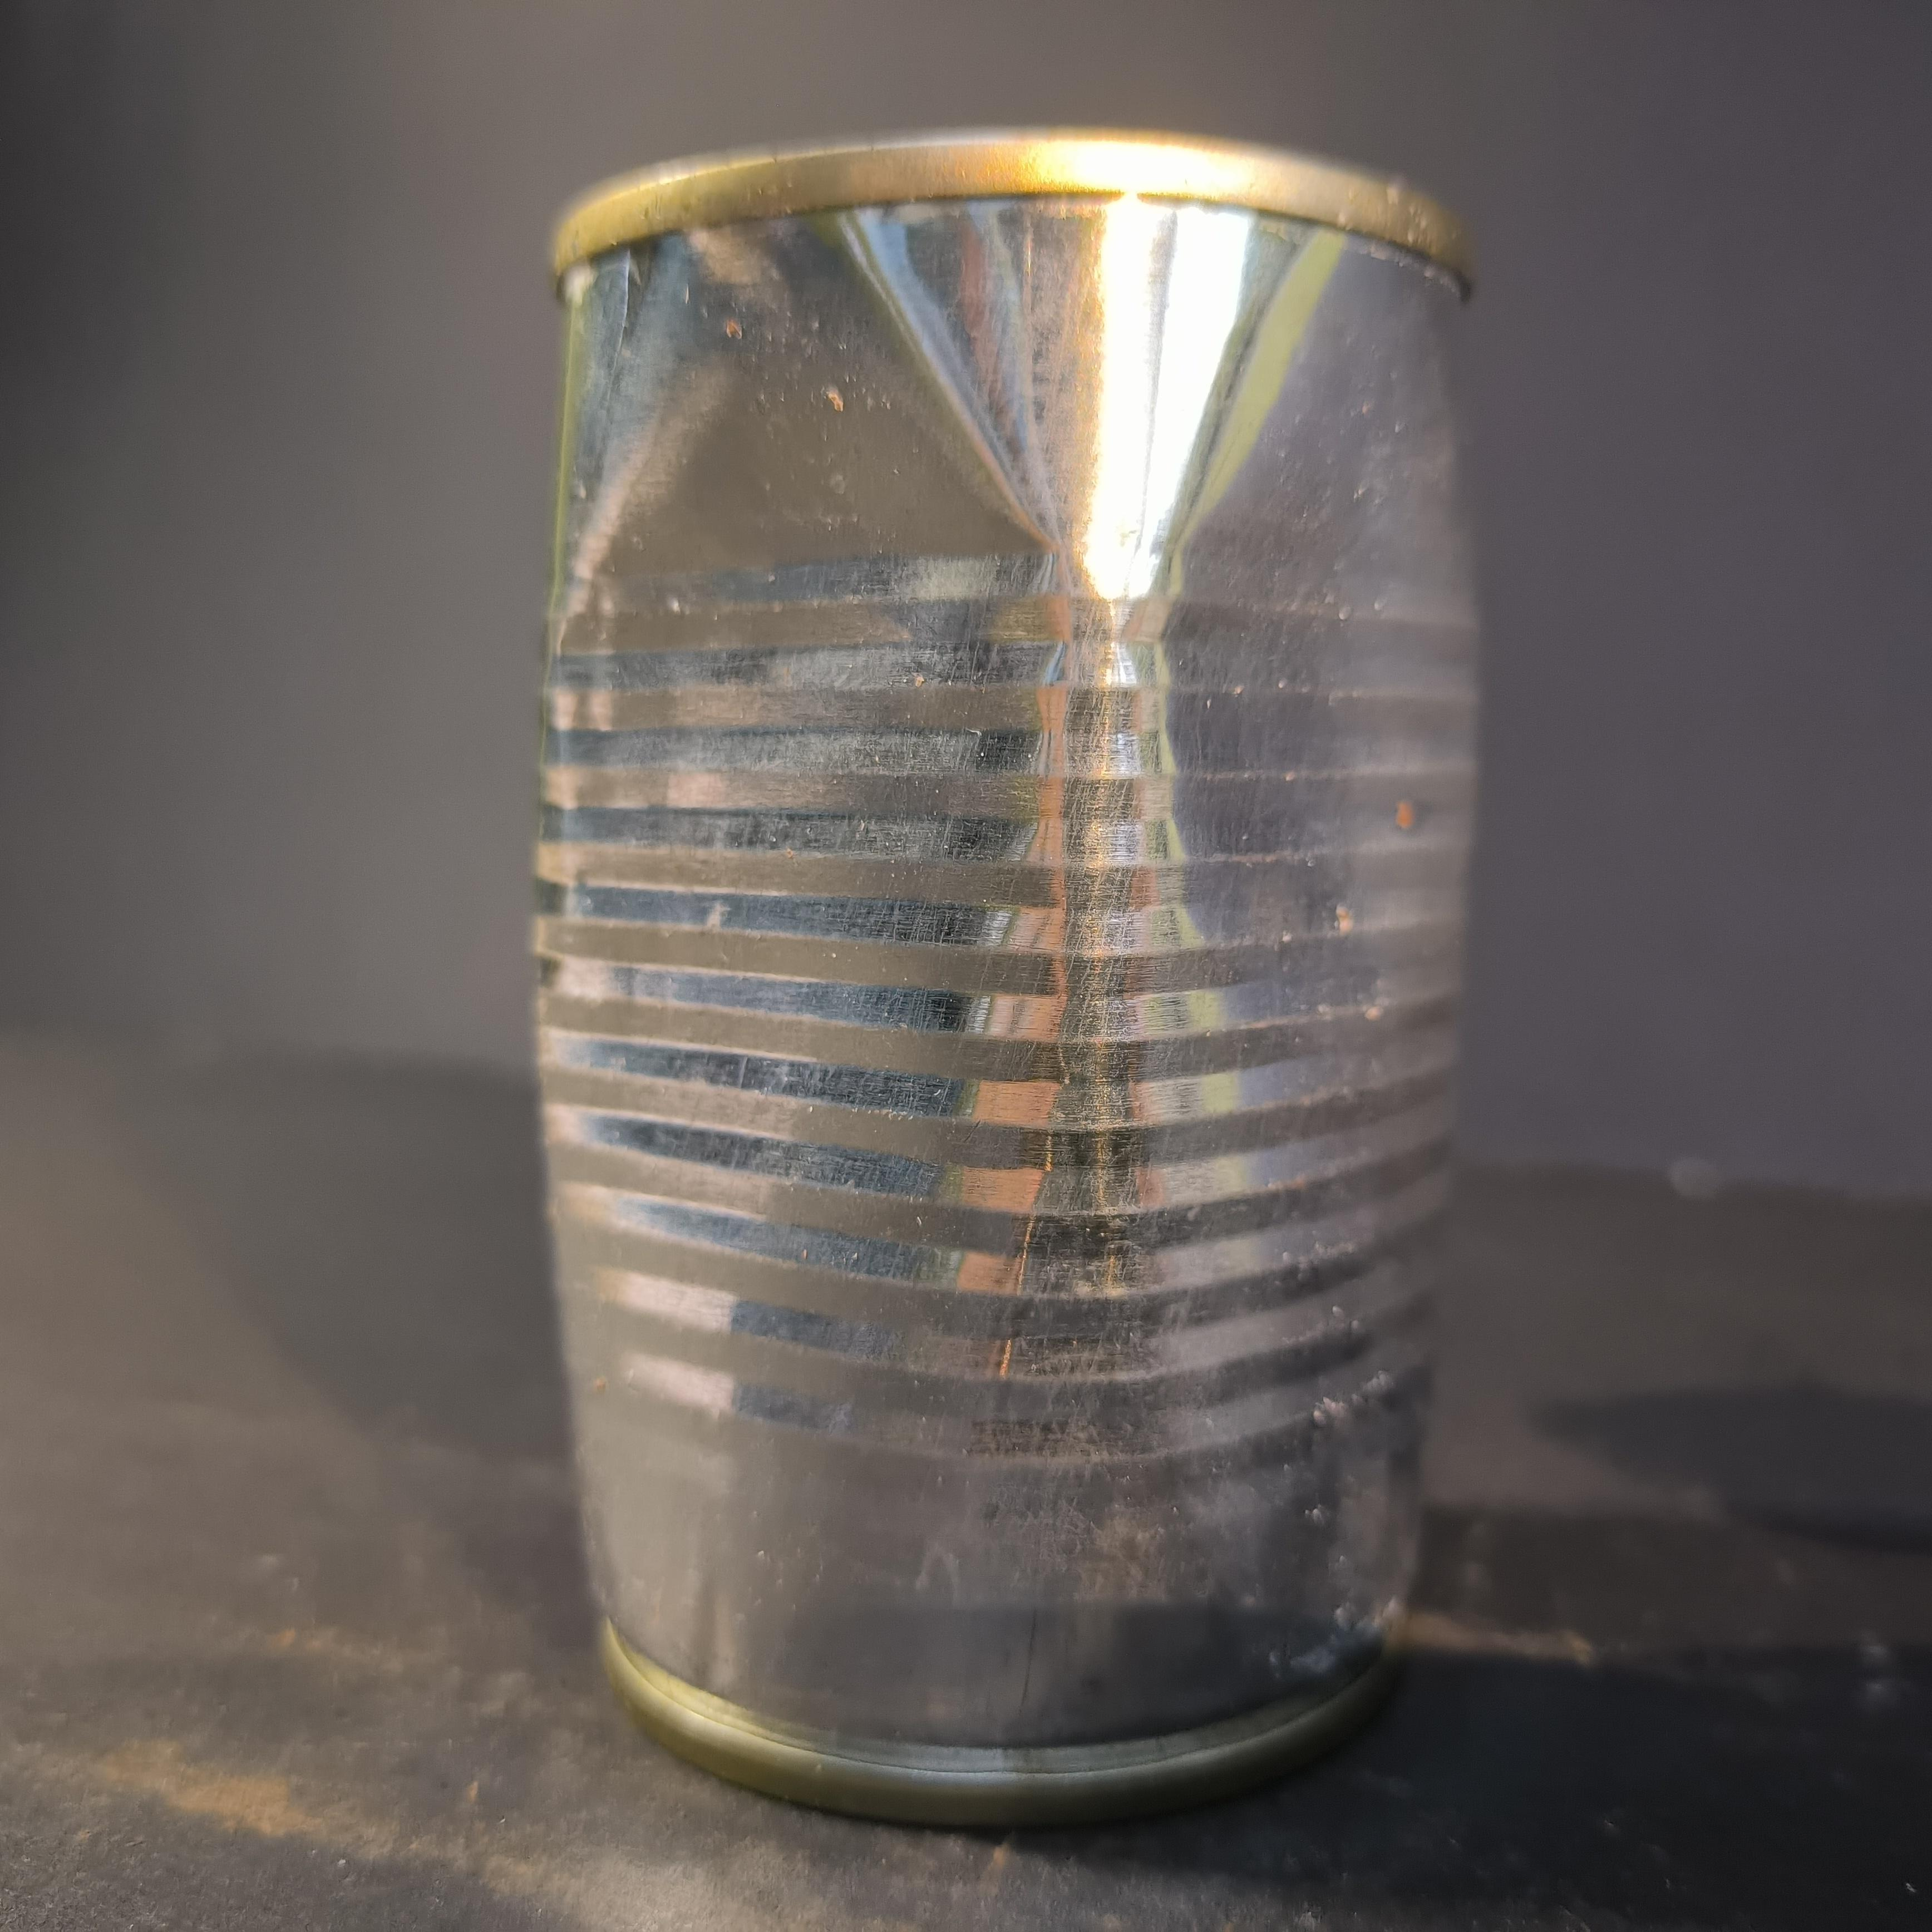Dented: (504, 92, 1472, 1856)
